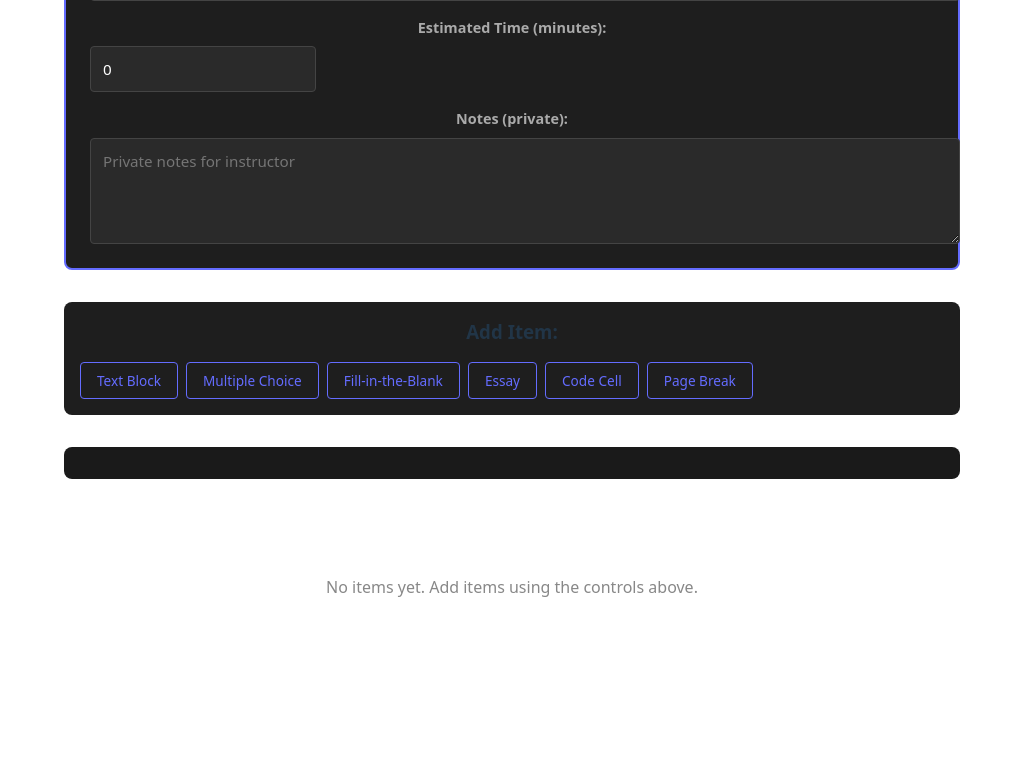
it: AssignmentEditor › adds a text item when text button is clicked
(page scrolled)
Click the button with test id "add-text" at (129, 381), box [80,362,178,399]
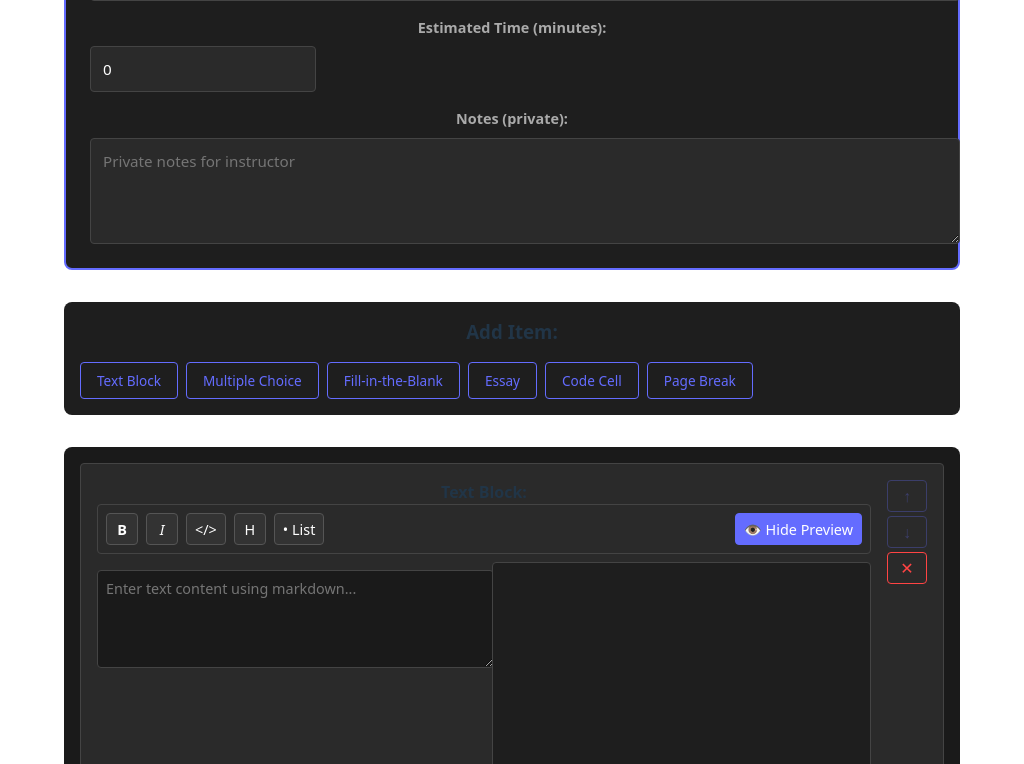
Result: the text box with test id "text-content-1" is shown at [97,570,494,668]
